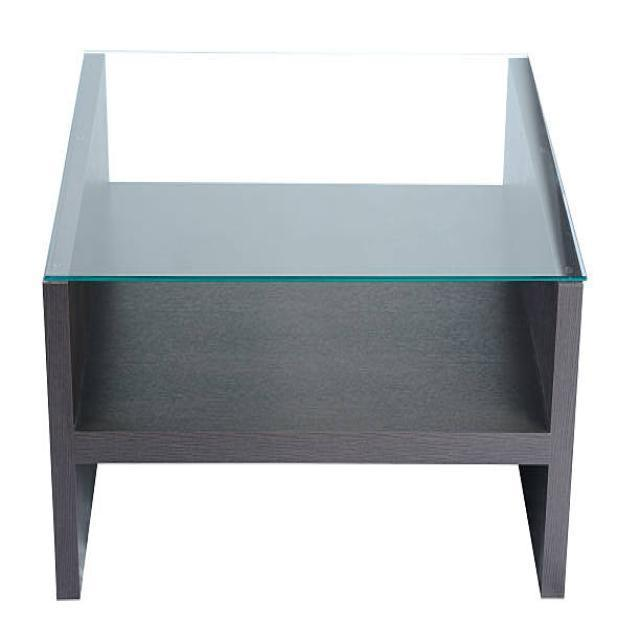table: (41, 47, 586, 601)
